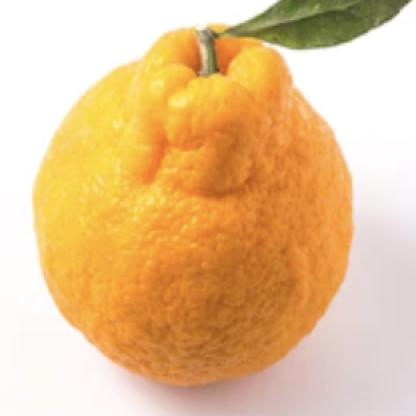fresh: (36, 24, 353, 385)
